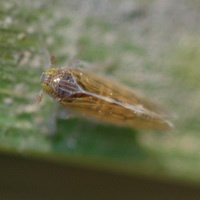insect: (41, 69, 172, 129)
